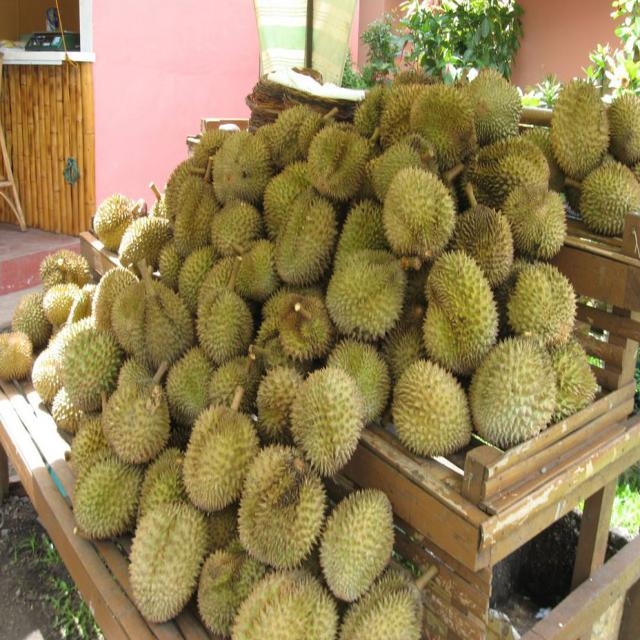mature: (236, 446, 328, 575), (386, 354, 476, 468), (469, 337, 556, 448), (319, 479, 398, 601), (129, 504, 203, 623), (292, 364, 368, 478), (182, 404, 258, 514), (382, 163, 454, 265), (123, 274, 195, 373), (53, 317, 130, 408), (300, 112, 376, 202), (102, 382, 174, 466), (274, 194, 336, 288), (191, 281, 255, 363)
